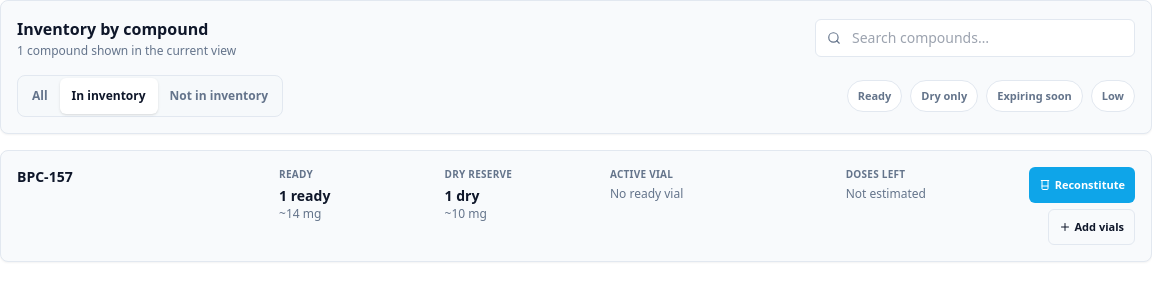
CompoundInventoryView › shows a recoverable empty state when filters hide every row
Step 1. Type "no match" into the field labelled "Search compounds…" → (975, 38), box [815,19,1135,57]
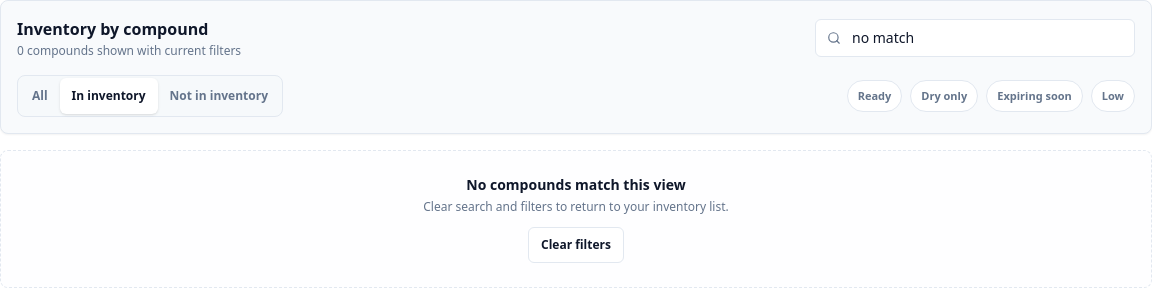
expect the text "No compounds match this view" is shown: met, box [466,175,686,194]
Step 2. Click the button "Clear filters" → (576, 245), box [528,227,624,263]
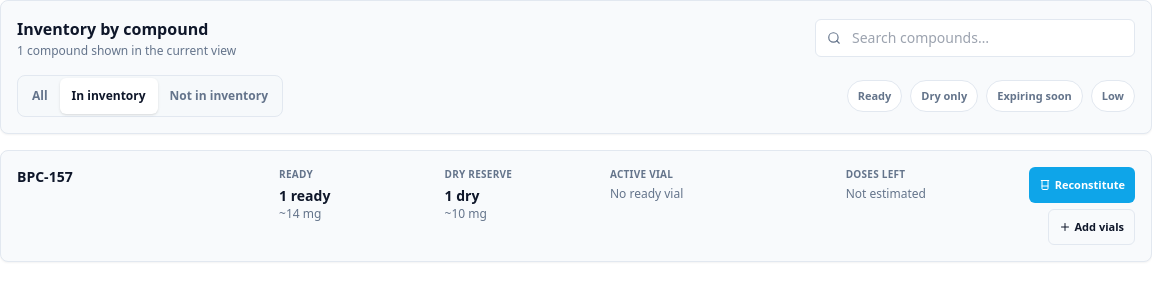
expect the heading "BPC-157" is shown: met, box [17,167,73,186]
